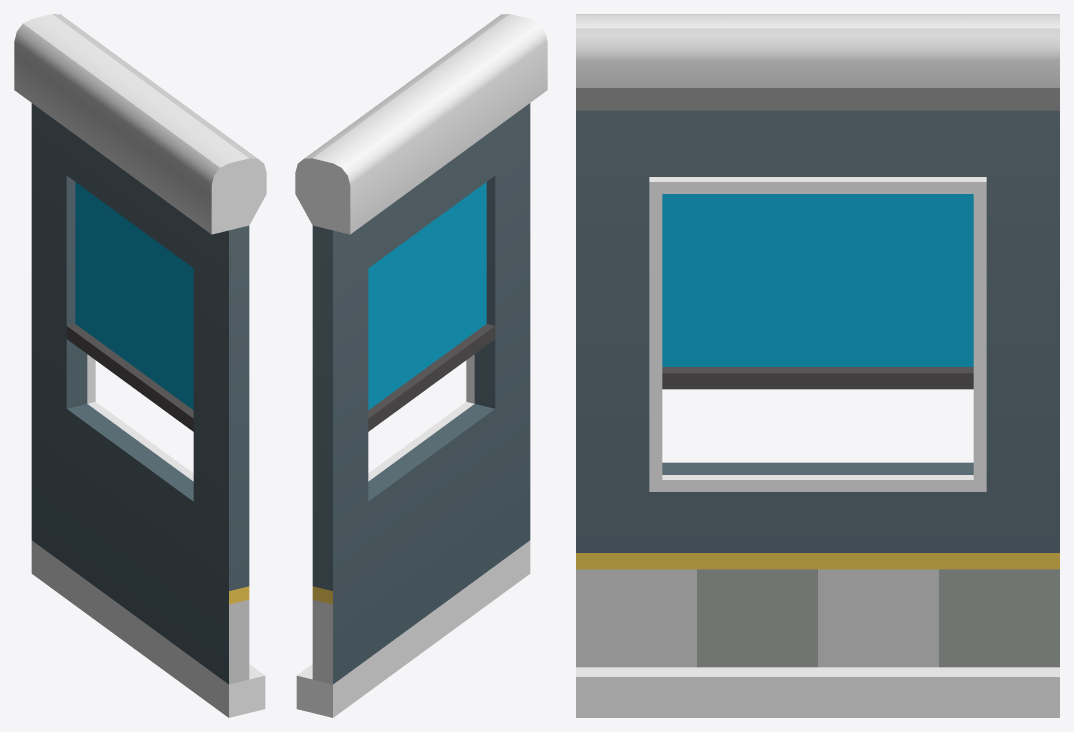
The model's file is Wall_Window.fbx.
3 renders of one model, left to right at view 1: azimuth 30°, elevation 25°; view 2: azimuth 150°, elevation 25°; view 3: azimuth 270°, elevation 25°, orthographic. The views are drawn at different scales.
Parts seen in each view (by area): view 1: Wall_Window; view 2: Wall_Window; view 3: Wall_Window.
Part boxes in pixels (x1=…): Wall_Window: x1=14, y1=14, x2=266, y2=717; Wall_Window: x1=295, y1=14, x2=547, y2=717; Wall_Window: x1=576, y1=14, x2=1059, y2=717.
Size of the model in its own units: 32 by 310 by 200.
